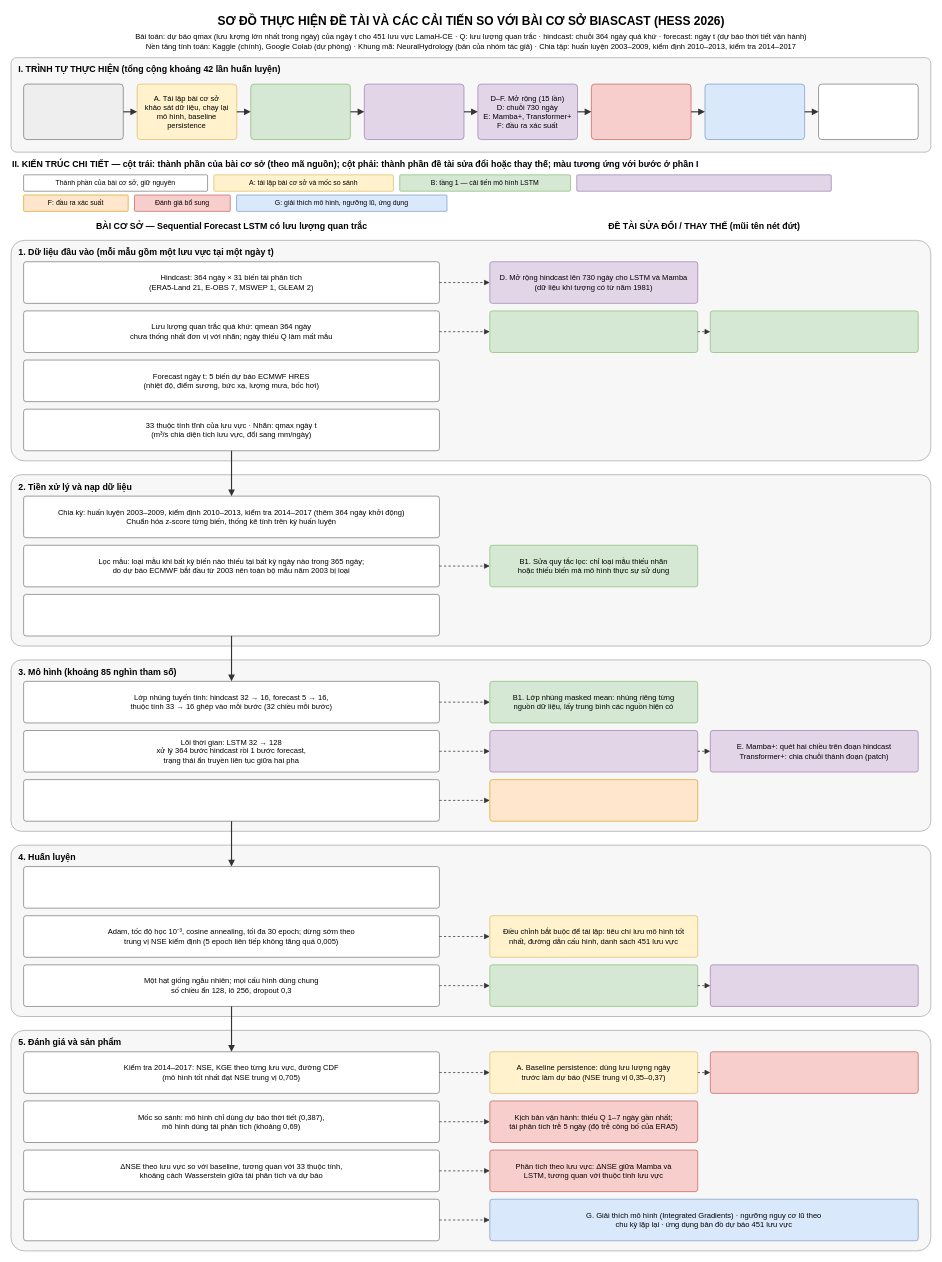
Some shapes in this 942 by 1262 pixel diagram are drawn without their labels. The centre of each missing label's shape, as x and y in pixels:
0. Chuẩn bị dữ liệu Extended LamaH-CE và kết quả của nhóm tác giả: the point at 73,111
B. Tầng 1 cải tiến mô hình LSTM của bài cơ sở (15 lần): the point at 300,111
B2. Thống nhất đơn vị với nhãn (mm/ngày), bổ sung qmax các ngày trước: the point at 593,331
B3. Loại bỏ ngẫu nhiên Q khi huấn luyện để mô hình vẫn dự báo được khi thiếu Q: the point at 814,331
B4. Ba hạt giống mỗi cấu hình; báo cáo trung bình (tổ hợp) và độ lệch chuẩn: the point at 593,985
BÁO CÁO TIỂU LUẬN VÀ ỨNG DỤNG MINH HỌA: the point at 868,111
C, D, E: tầng 2 — lõi thời gian, chuỗi dài, biến thể: the point at 703,182
C. Thay lõi LSTM, giữ nguyên các khối khác: GRU, Transformer, S4D, Mamba: the point at 593,751
C. Tinh chỉnh số chiều ẩn 64 / 128 / 256 với cùng ngân sách cho mọi lõi: the point at 814,985
C. Tầng 2: thay lõi GRU · Transformer S4D · Mamba (12 lần và tinh chỉnh): the point at 414,111
F. Đầu ra hỗn hợp phân phối (CMAL) → xác suất vượt ngưỡng lũ: the point at 593,800
G. Giải thích mô hình ngưỡng nguy cơ lũ ứng dụng minh họa: the point at 754,111
Hàm mất mát NSE*: trung bình (ŷ − y)² / (σ của lưu vực + 0,1)²: the point at 231,887
Không có phần giải thích mô hình, ngưỡng nguy cơ lũ và ứng dụng: the point at 231,1220
Lô 256 mẫu, trộn ngẫu nhiên giữa các lưu vực: the point at 231,615
Sai số đỉnh lũ (FHV) và độ lệch thời điểm đỉnh: the point at 814,1072
Đánh giá NSE, KGE, sai số đỉnh lũ kịch bản vận hành phân tích theo lưu vực: the point at 641,111
Đầu ra: dropout 0,3, lớp tuyến tính 128 → 1 → qmax ngày t: the point at 231,800
